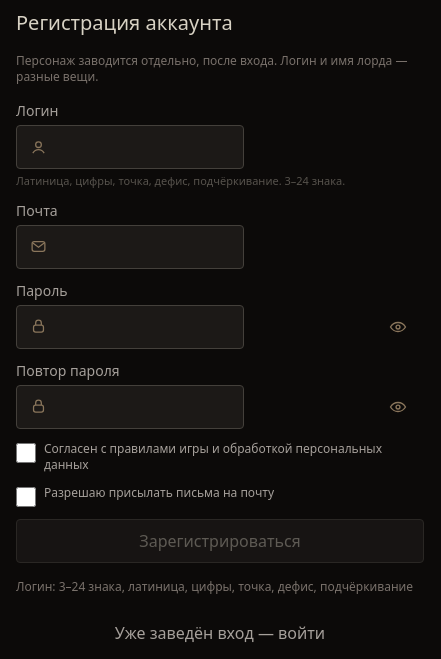
вход и регистрация › без согласия с правилами кнопка молчит и объясняет причину
This screenshot has width=441, height=659.
Type "lord.dark" into the field with test id "register-login" at point(130, 147), box top-left (16, 125), bottom-right (244, 169)
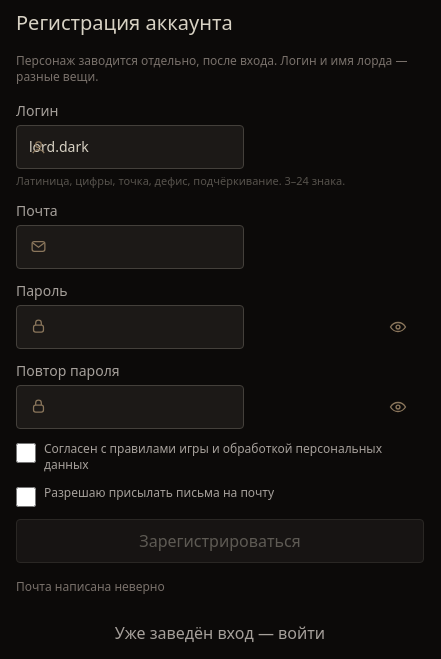
Type "lord.dark@mail.test" into the field with test id "register-email" at point(130, 247), box top-left (16, 225), bottom-right (244, 269)
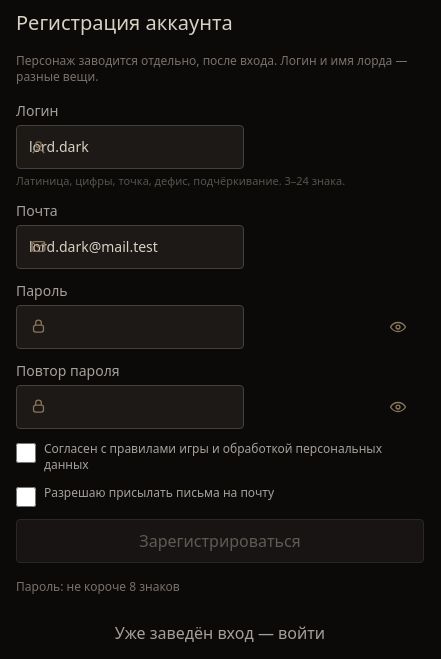
Type "пароль-из-теста" into the password field with test id "register-password" at point(130, 327), box top-left (16, 305), bottom-right (244, 349)
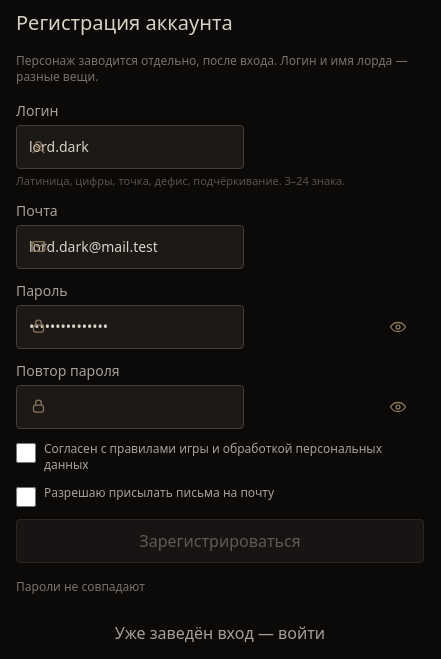
Type "пароль-из-теста" into the password field with test id "register-repeat" at point(130, 407), box top-left (16, 385), bottom-right (244, 429)
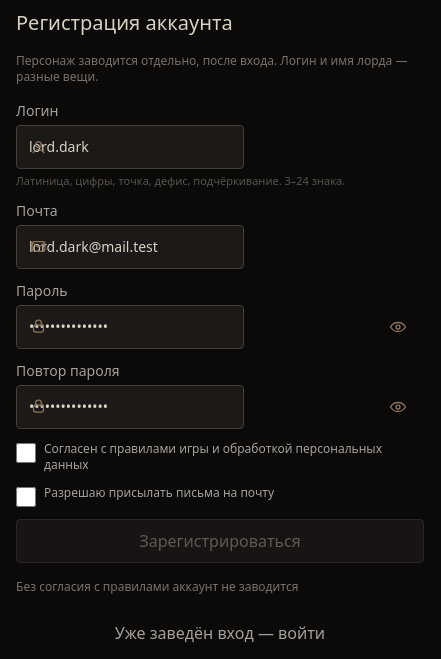
Expected: the button "Зарегистрироваться" is disabled, top-left (16, 519), bottom-right (424, 563)
Expected: the text with test id "register-problem" reads "Без согласия с правилами аккаунт не заводится", top-left (16, 578), bottom-right (298, 595)
